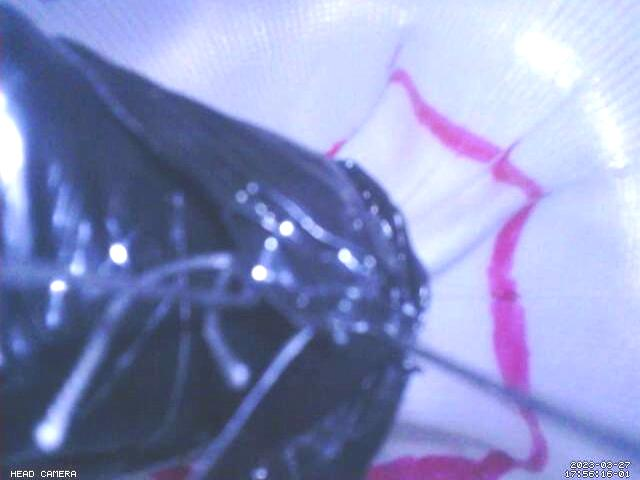red-circle: (323, 68, 549, 480)
